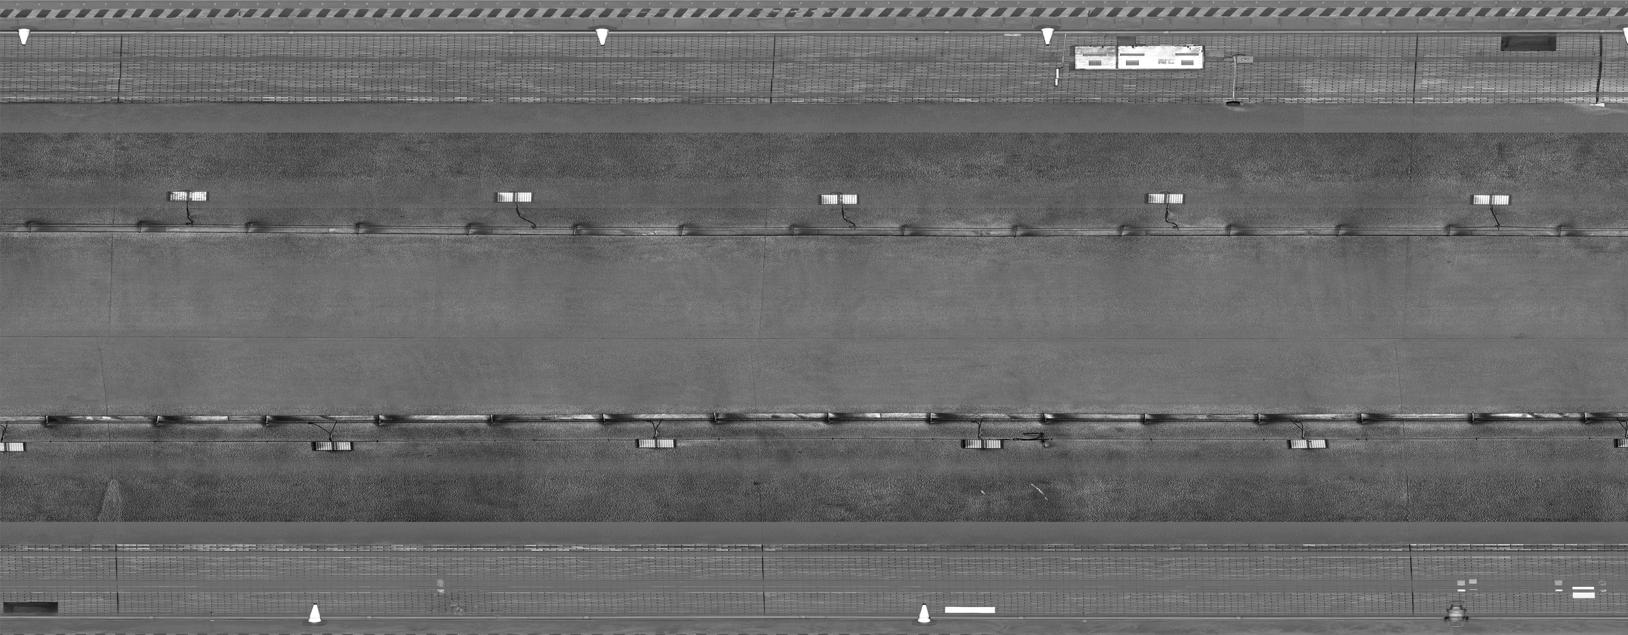light: (158, 186, 218, 206), (486, 187, 546, 208), (624, 433, 684, 453), (955, 435, 1015, 455), (1281, 435, 1341, 455), (302, 436, 362, 455), (805, 189, 865, 209), (1132, 190, 1192, 210), (1458, 190, 1518, 210), (1, 436, 31, 457)
